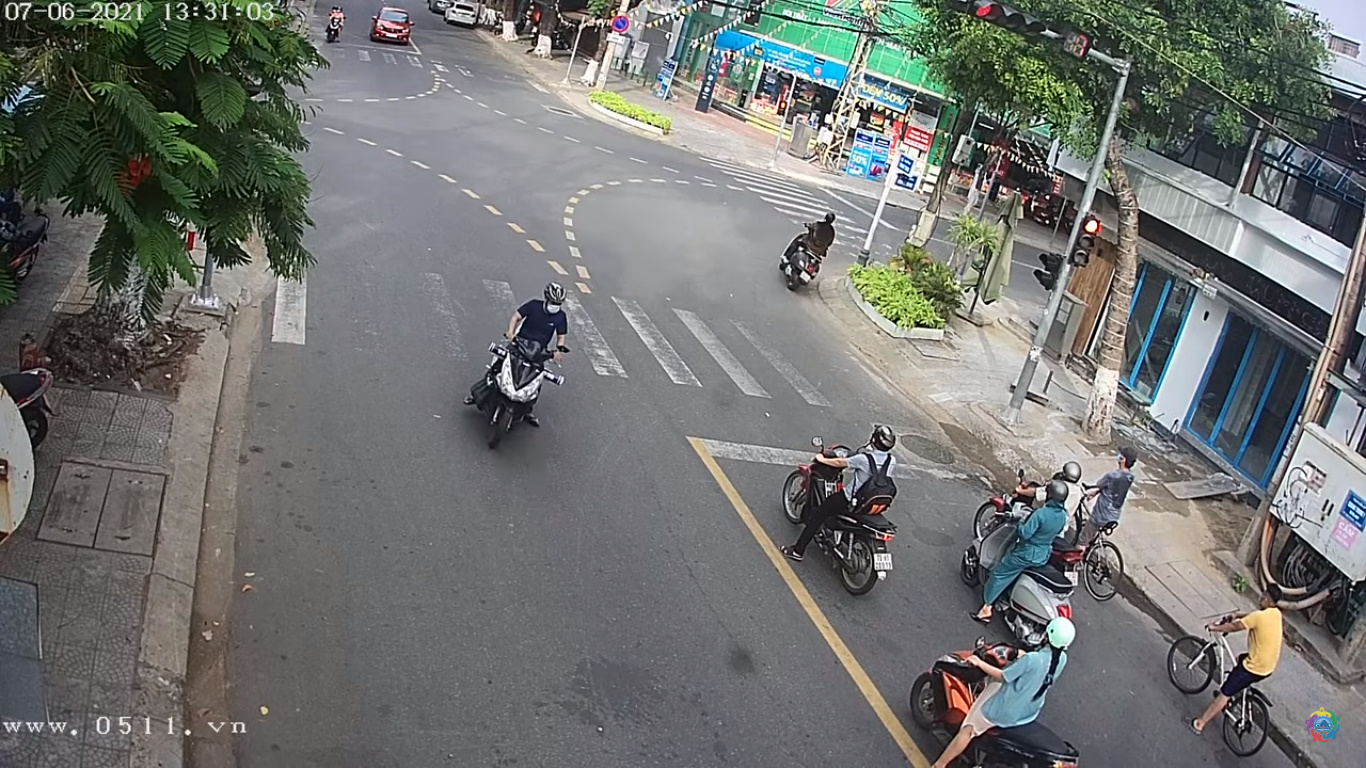motorbike: (474, 284, 576, 453)
